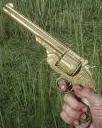gun: (1, 1, 102, 128)
